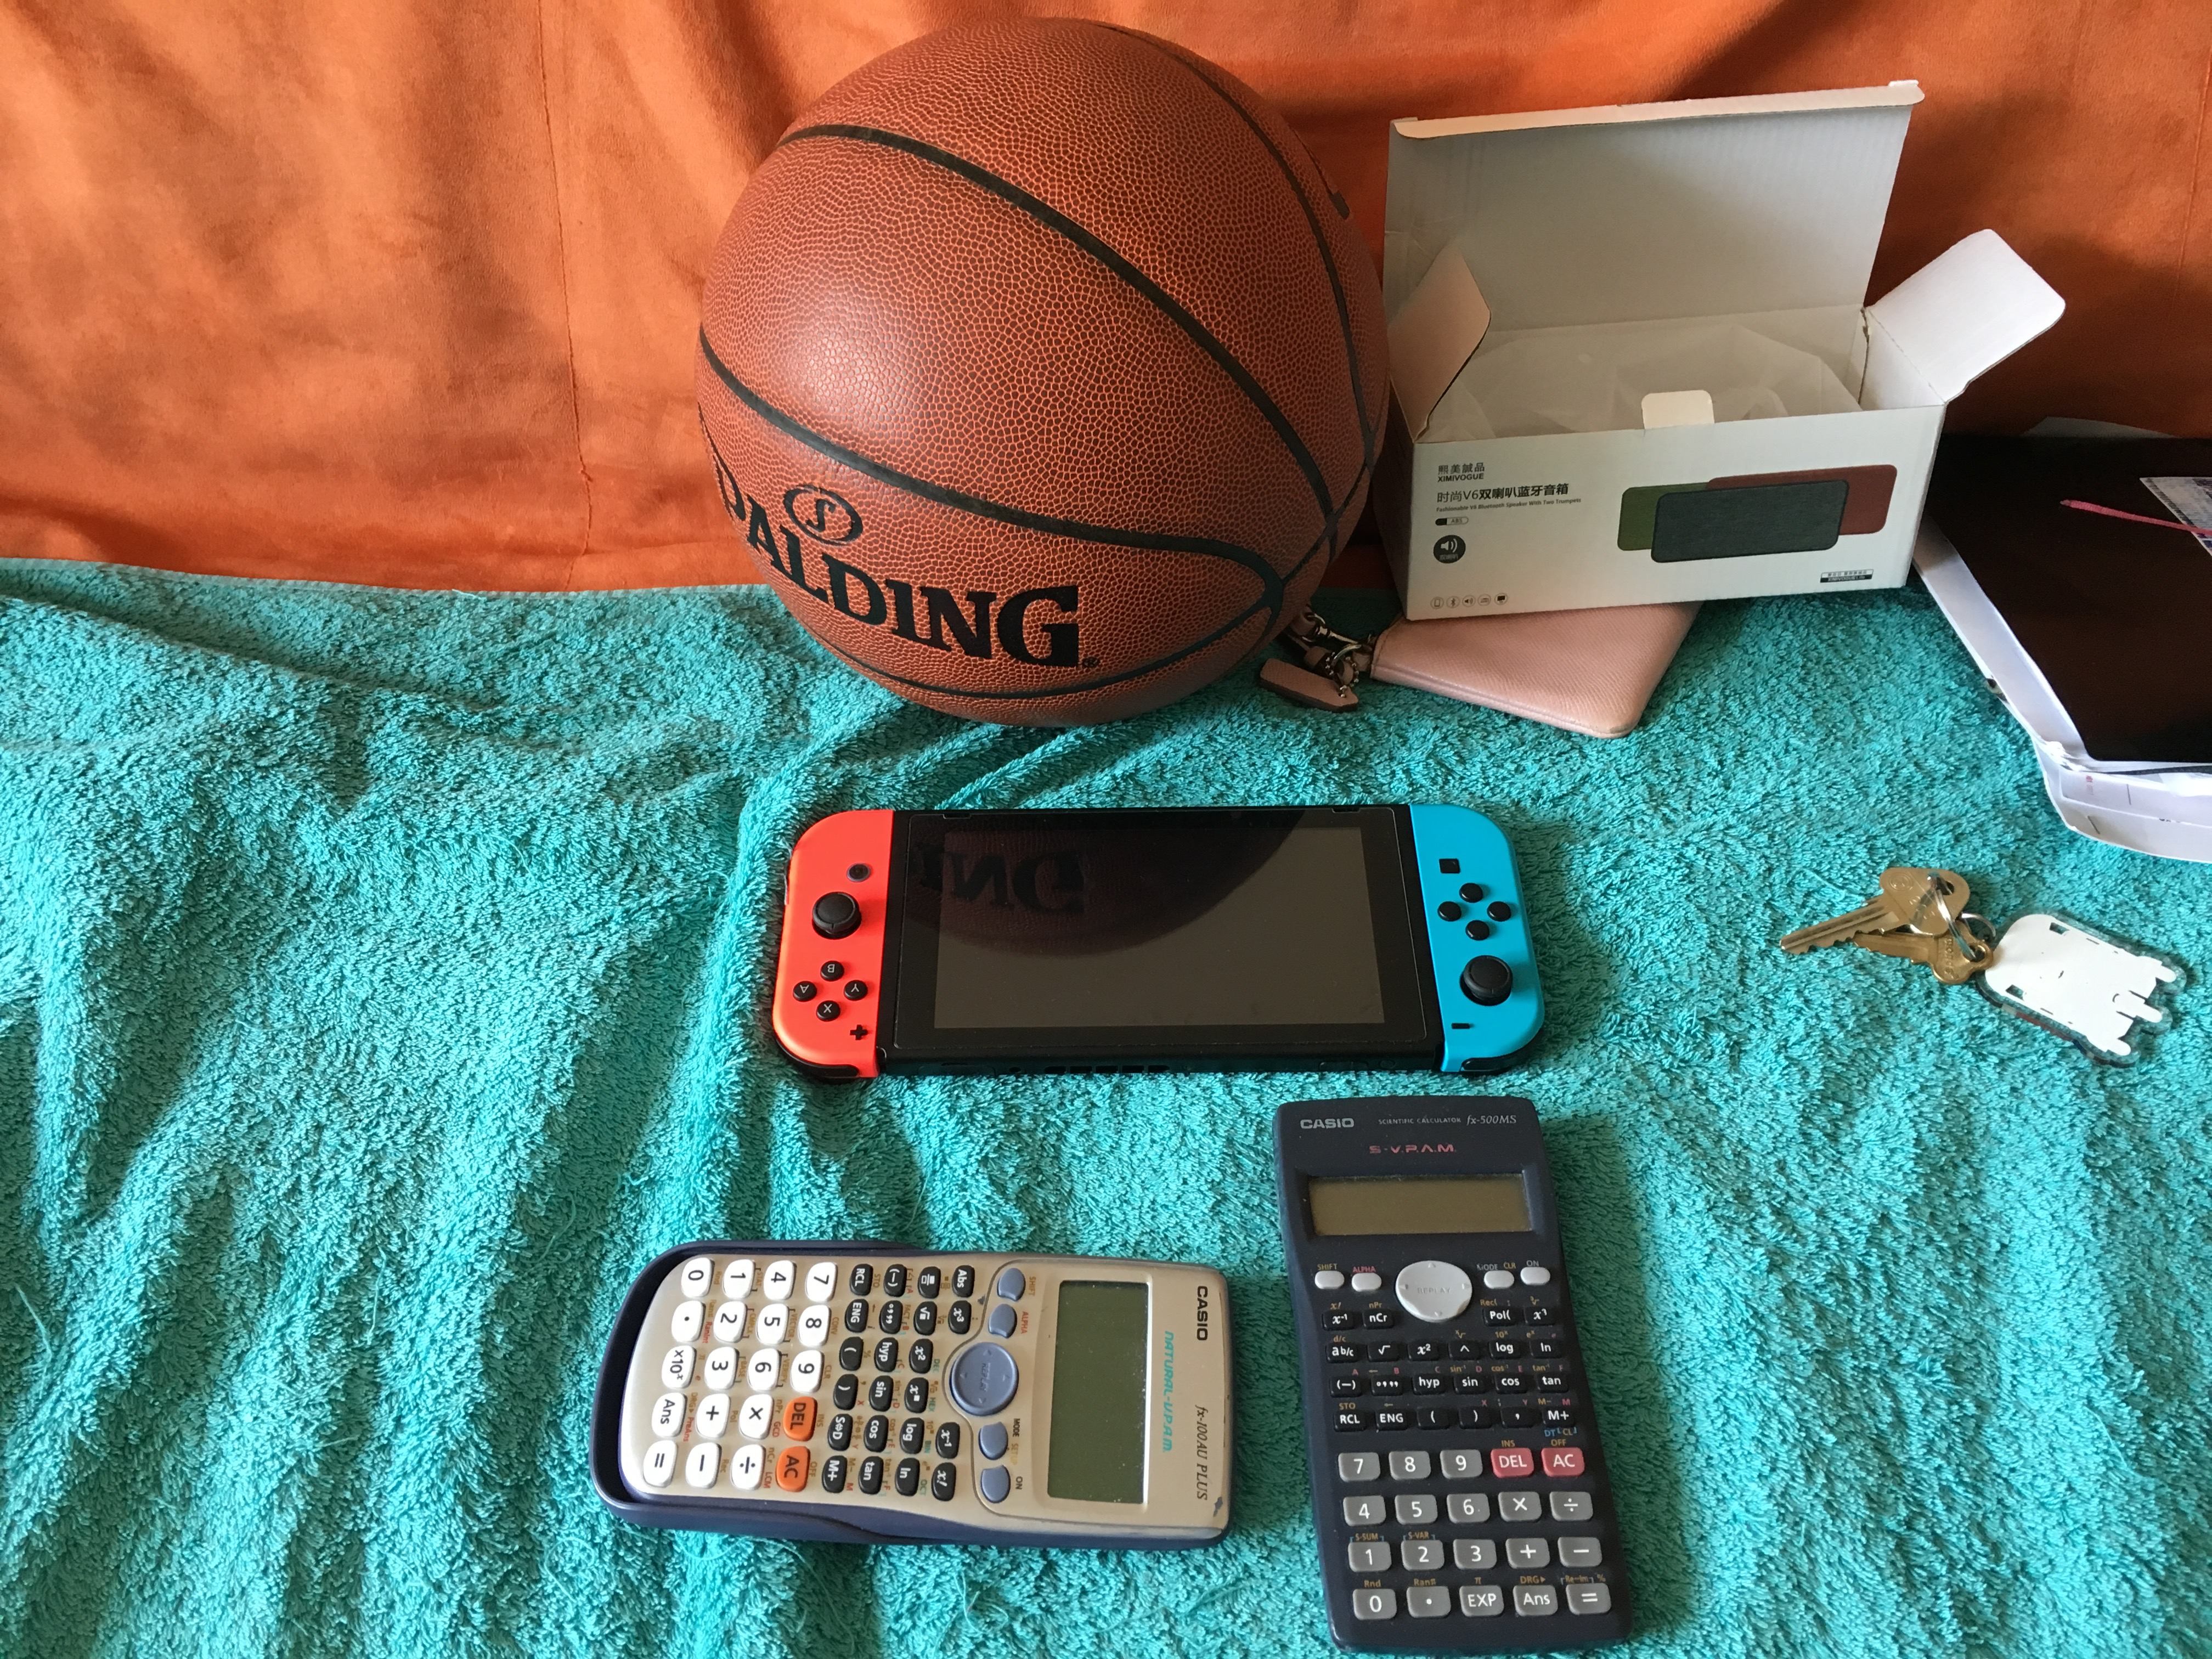Basketball: (685, 12, 1418, 748)
Calculator: (578, 1237, 1237, 1560), (1268, 1089, 1634, 1659)
NintendoSwitch: (763, 796, 1557, 1093)
